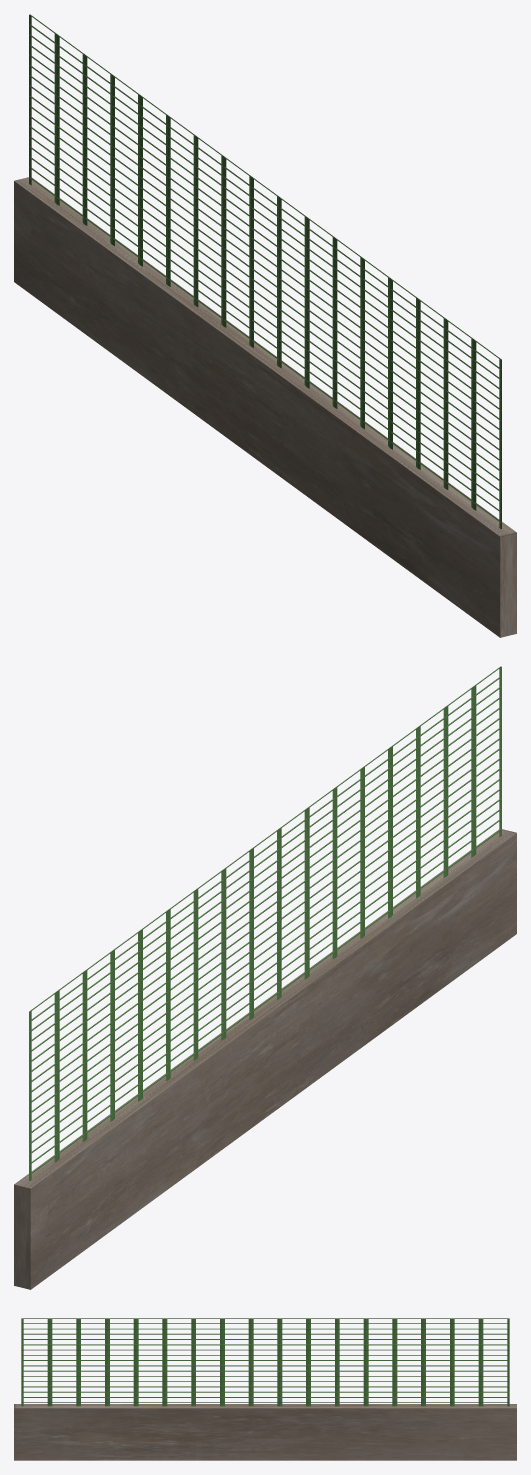
The model's file is 公園壁.fbx.
3 renders of one model, top to bottom at view 1: azimuth 30°, elevation 25°; view 2: azimuth 150°, elevation 25°; view 3: azimuth 270°, elevation 25°, orthographic. The views are drawn at different scales.
Visible parts, largest first — view 1: Cube; view 2: Cube; view 3: Cube.
Part boxes in pixels (bbox=[...]): Cube: bbox=[14, 14, 516, 637]; Cube: bbox=[14, 666, 516, 1289]; Cube: bbox=[14, 1318, 516, 1460].
Bounding box in the file's own units: 34.73 × 535 × 1740.
2 materials, 1 textured.
